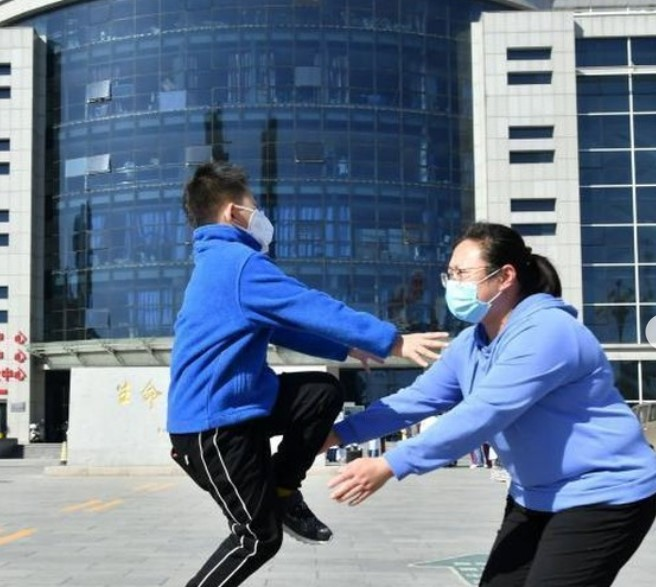face_with_mask: (183, 169, 276, 253), (444, 225, 518, 328)
